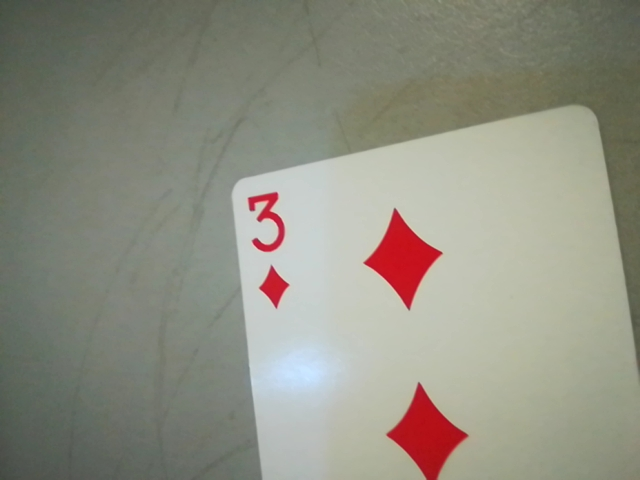fk 3: (236, 180, 303, 315)
